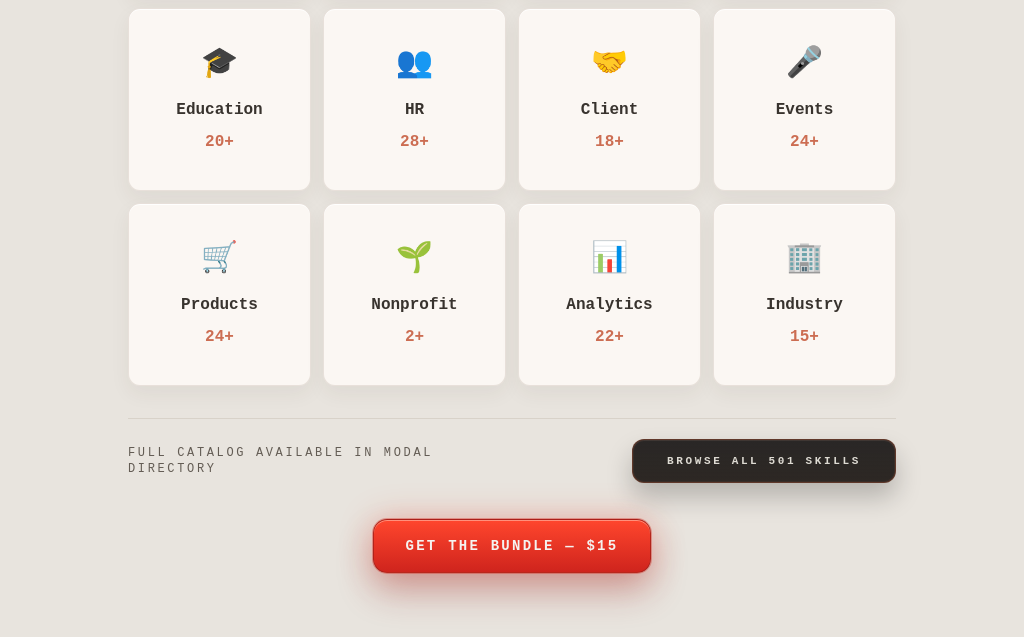
Scenario: skills directory modal › opens without focusing search and keeps categories collapsed by default
(page scrolled)
What coordinates should you click on to do the following:
click the button "Browse All 501 Skills"
I would click on:
 (764, 461)
Its box is [632,439,896,483].
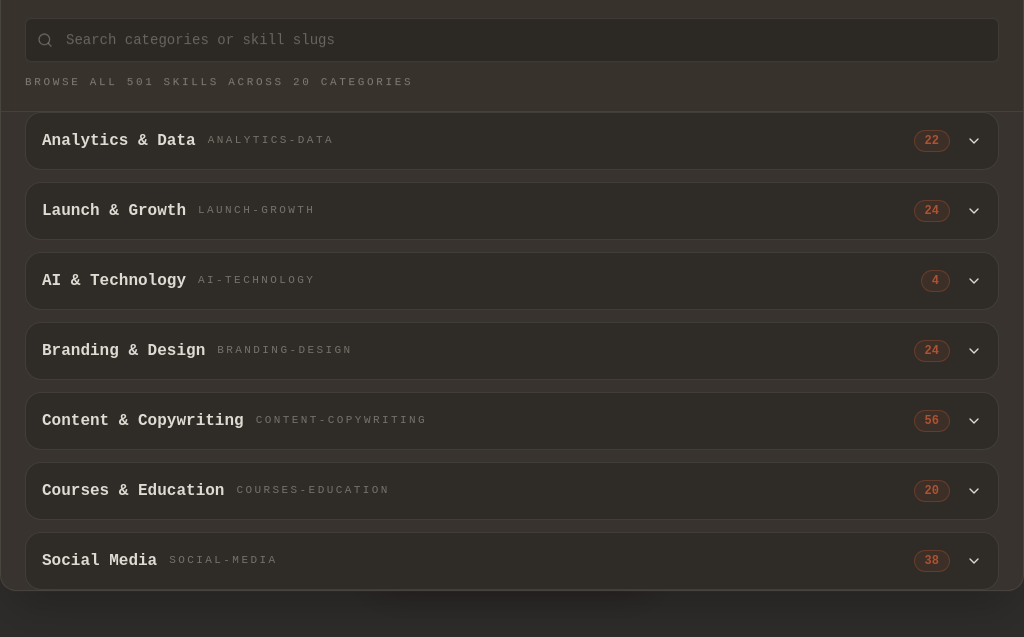
Expected: the text "ab-test-plan" is not shown
What coordinates should you click on to do the following:
click the button "Analytics & Data analytics-data 22"
I would click on:
 (119, 141)
Its box is [42,113,982,169].
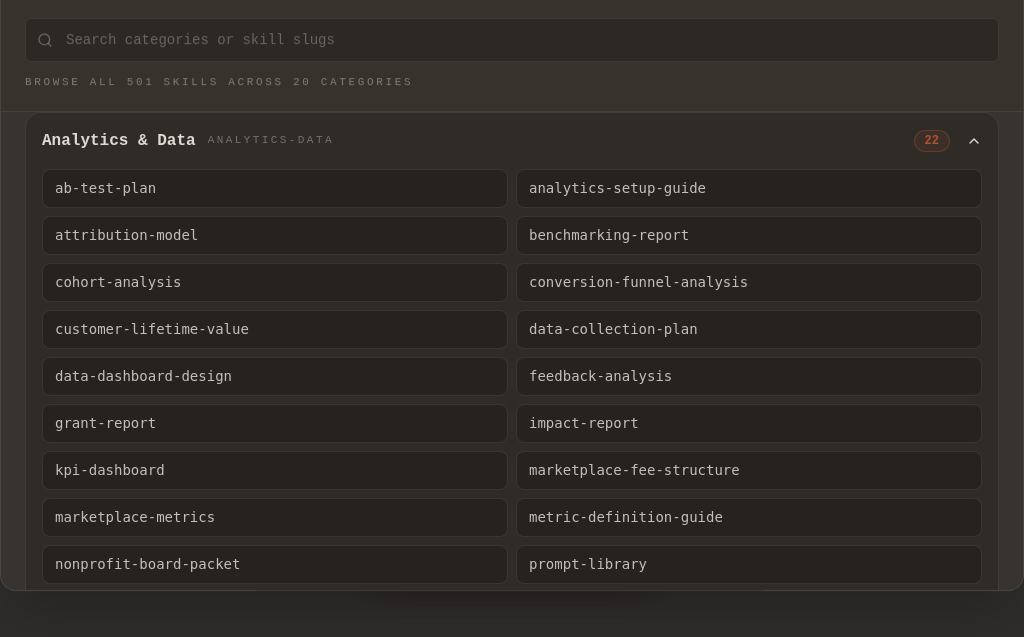
Expected: the button "Analytics & Data analytics-data 22" is expanded, [42,113,982,169]
Expected: the text "ab-test-plan" is shown, [55,180,156,196]
